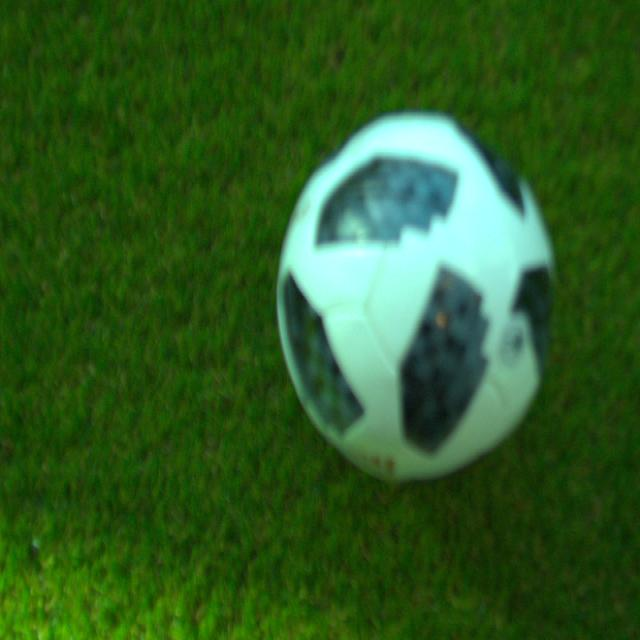ball: (278, 108, 554, 488)
